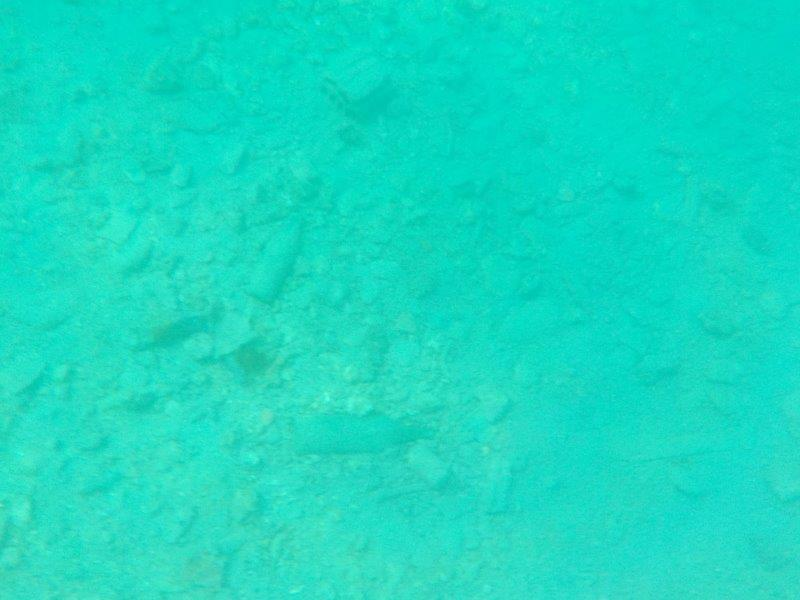bottle: (282, 406, 444, 461), (238, 206, 312, 315)
